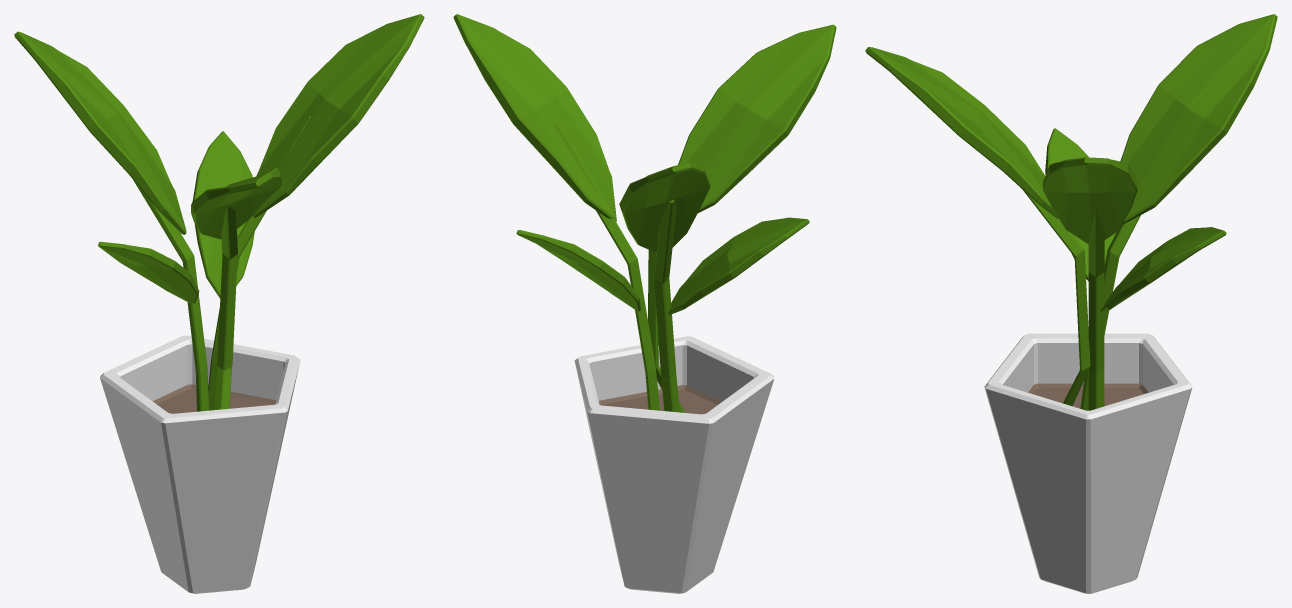
Rendered from mai.fbx.
3 renders of one model, left to right at view 1: azimuth 30°, elevation 25°; view 2: azimuth 150°, elevation 25°; view 3: azimuth 270°, elevation 25°, orthographic.
Parts seen in each view (by area): view 1: pCylinder1, pCube15, pCube17, pCube18, pCube16, pCylinder3, pCube19, pCylinder4, pCylinder2; view 2: pCylinder1, pCube16, pCube15, pCube17, pCube19, pCylinder4, pCylinder2, pCube18, pCylinder3; view 3: pCylinder1, pCube17, pCube16, pCube15, pCylinder2, pCube18, pCylinder3, pCylinder4, pCube19.
Part boxes in pixels (<box>): pCylinder1: <box>100,335,300,593</box>; pCube15: <box>253,14,424,217</box>; pCube17: <box>14,31,186,234</box>; pCube18: <box>192,131,254,298</box>; pCube16: <box>191,167,281,239</box>; pCylinder3: <box>214,206,237,409</box>; pCube19: <box>98,241,199,303</box>; pCylinder4: <box>133,180,209,411</box>; pCylinder2: <box>208,115,310,410</box>; pCylinder1: <box>574,336,774,593</box>; pCube16: <box>678,24,836,212</box>; pCube15: <box>453,14,616,221</box>; pCube17: <box>619,162,710,252</box>; pCube19: <box>668,217,809,314</box>; pCylinder4: <box>654,200,679,412</box>; pCylinder2: <box>554,123,659,410</box>; pCube18: <box>516,230,640,311</box>; pCylinder3: <box>648,250,685,412</box>; pCylinder1: <box>984,333,1192,593</box>; pCube17: <box>1120,14,1277,224</box>; pCube16: <box>865,47,1058,218</box>; pCube15: <box>1043,157,1137,244</box>; pCylinder2: <box>1088,208,1104,410</box>; pCube18: <box>1100,227,1226,313</box>; pCylinder3: <box>1022,189,1090,406</box>; pCylinder4: <box>1080,215,1140,410</box>; pCube19: <box>1045,128,1116,281</box>.
Size of the model in its own units: 3.59 by 5.14 by 3.7.
